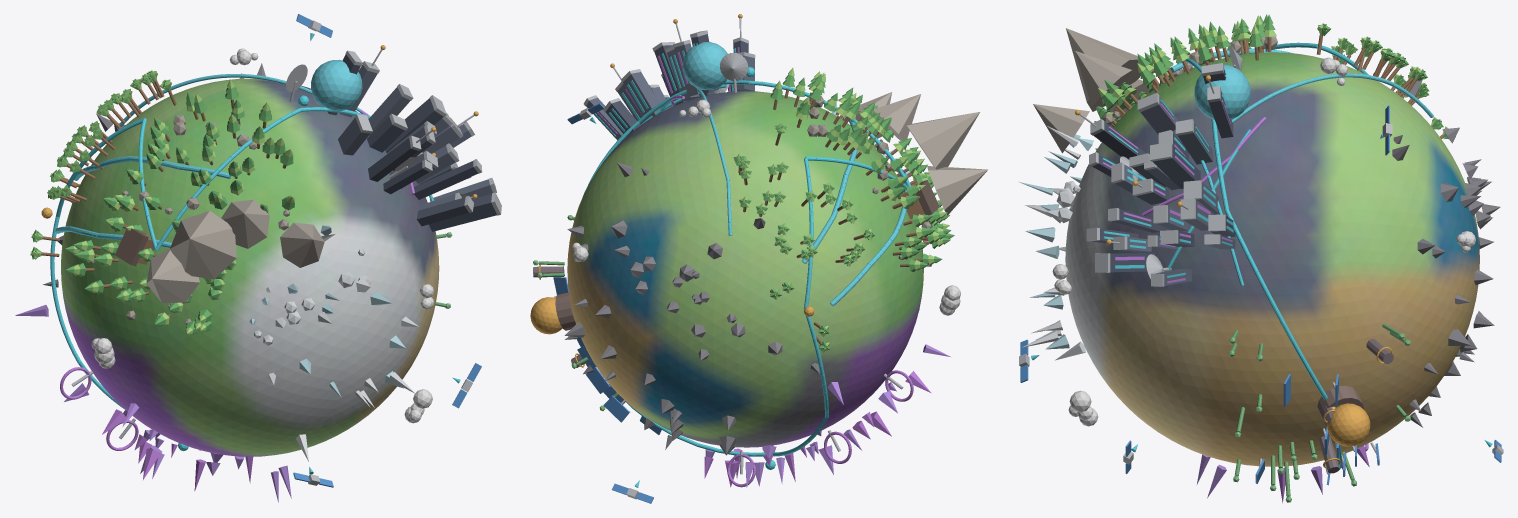
Rendered from cyber_biome_tiny_planet_full_globe.glb.
3 views of the same model, side by side, from view 1: azimuth 30°, elevation 25°; view 2: azimuth 150°, elevation 25°; view 3: azimuth 270°, elevation 25° (orthographic). The views are drawn at different scales.
Parts seen in each view (by area): view 1: complete_closed_low_poly_globe_biome_surface, snow_mountain_base_0, transparent_style_cyber_holo_dome, snow_mountain_base_1, snow_mountain_base_2, snow_mountain_base_3, cyber_tower_body_23, cyber_tower_body_17, cyber_tower_body_05, cyber_tower_body_19, cyber_tower_body_09, forest_lodge_roof (+4 smaller); view 2: complete_closed_low_poly_globe_biome_surface, snow_mountain_base_0, transparent_style_cyber_holo_dome, snow_mountain_base_1, snow_mountain_base_2, desert_industrial_glow_dome, cyber_tower_body_16, satellite_dish_2, desert_industrial_base, cyber_tower_body_07; view 3: complete_closed_low_poly_globe_biome_surface, transparent_style_cyber_holo_dome, snow_mountain_base_0, snow_mountain_base_2, desert_industrial_glow_dome, snow_mountain_base_3, cyber_tower_body_09, desert_industrial_base, cyber_tower_body_05, cyber_tower_body_04, cyber_tower_body_12, cyber_tower_body_17 (+1 smaller).
Boxes of the visible parts, x1,y1,x2,y2 form: complete_closed_low_poly_globe_biome_surface: [61, 78, 439, 456]; snow_mountain_base_0: [170, 211, 236, 279]; transparent_style_cyber_holo_dome: [311, 59, 362, 111]; snow_mountain_base_1: [146, 248, 199, 302]; snow_mountain_base_2: [221, 199, 269, 248]; snow_mountain_base_3: [280, 222, 324, 267]; cyber_tower_body_23: [413, 161, 478, 199]; cyber_tower_body_17: [429, 194, 496, 231]; cyber_tower_body_05: [368, 138, 418, 181]; cyber_tower_body_19: [416, 197, 468, 226]; cyber_tower_body_09: [385, 98, 443, 152]; forest_lodge_roof: [115, 228, 148, 266]; complete_closed_low_poly_globe_biome_surface: [567, 91, 923, 447]; snow_mountain_base_0: [906, 112, 979, 169]; transparent_style_cyber_holo_dome: [683, 42, 727, 90]; snow_mountain_base_1: [927, 166, 987, 215]; snow_mountain_base_2: [872, 94, 920, 140]; desert_industrial_glow_dome: [530, 297, 562, 334]; cyber_tower_body_16: [623, 72, 663, 119]; satellite_dish_2: [720, 53, 748, 80]; desert_industrial_base: [555, 292, 575, 330]; cyber_tower_body_07: [605, 101, 639, 135]; complete_closed_low_poly_globe_biome_surface: [1065, 52, 1479, 466]; transparent_style_cyber_holo_dome: [1194, 64, 1250, 119]; snow_mountain_base_0: [1066, 28, 1145, 111]; snow_mountain_base_2: [1075, 51, 1132, 107]; desert_industrial_glow_dome: [1327, 403, 1370, 446]; snow_mountain_base_3: [1033, 104, 1089, 153]; cyber_tower_body_09: [1153, 144, 1200, 188]; desert_industrial_base: [1317, 385, 1364, 426]; cyber_tower_body_05: [1093, 122, 1146, 159]; cyber_tower_body_04: [1178, 122, 1212, 164]; cyber_tower_body_12: [1140, 97, 1177, 134]; cyber_tower_body_17: [1110, 252, 1154, 272].
Bounding box in the file's own units: 9.46 × 10.25 × 9.38.
